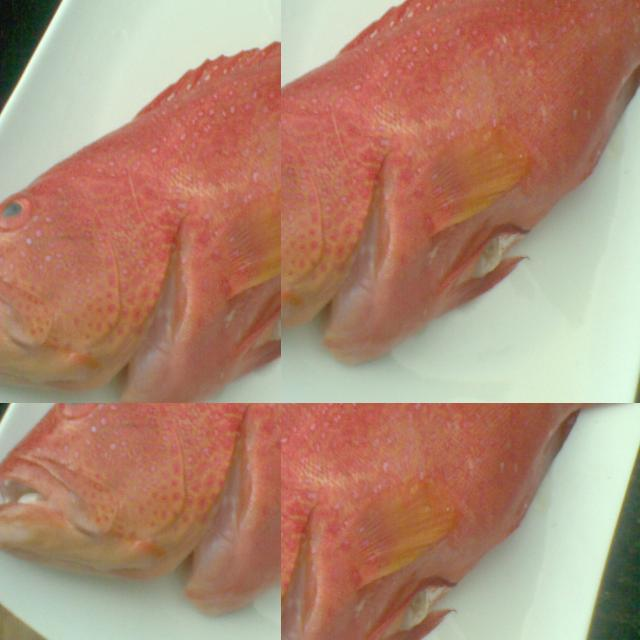Leopard coral grouper: (281, 403, 640, 640), (0, 403, 77, 433), (281, 0, 323, 36), (0, 0, 29, 42)
